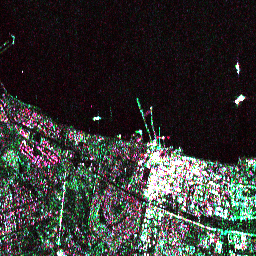ship: (232, 90, 248, 107), (233, 62, 240, 75), (91, 114, 102, 122)
